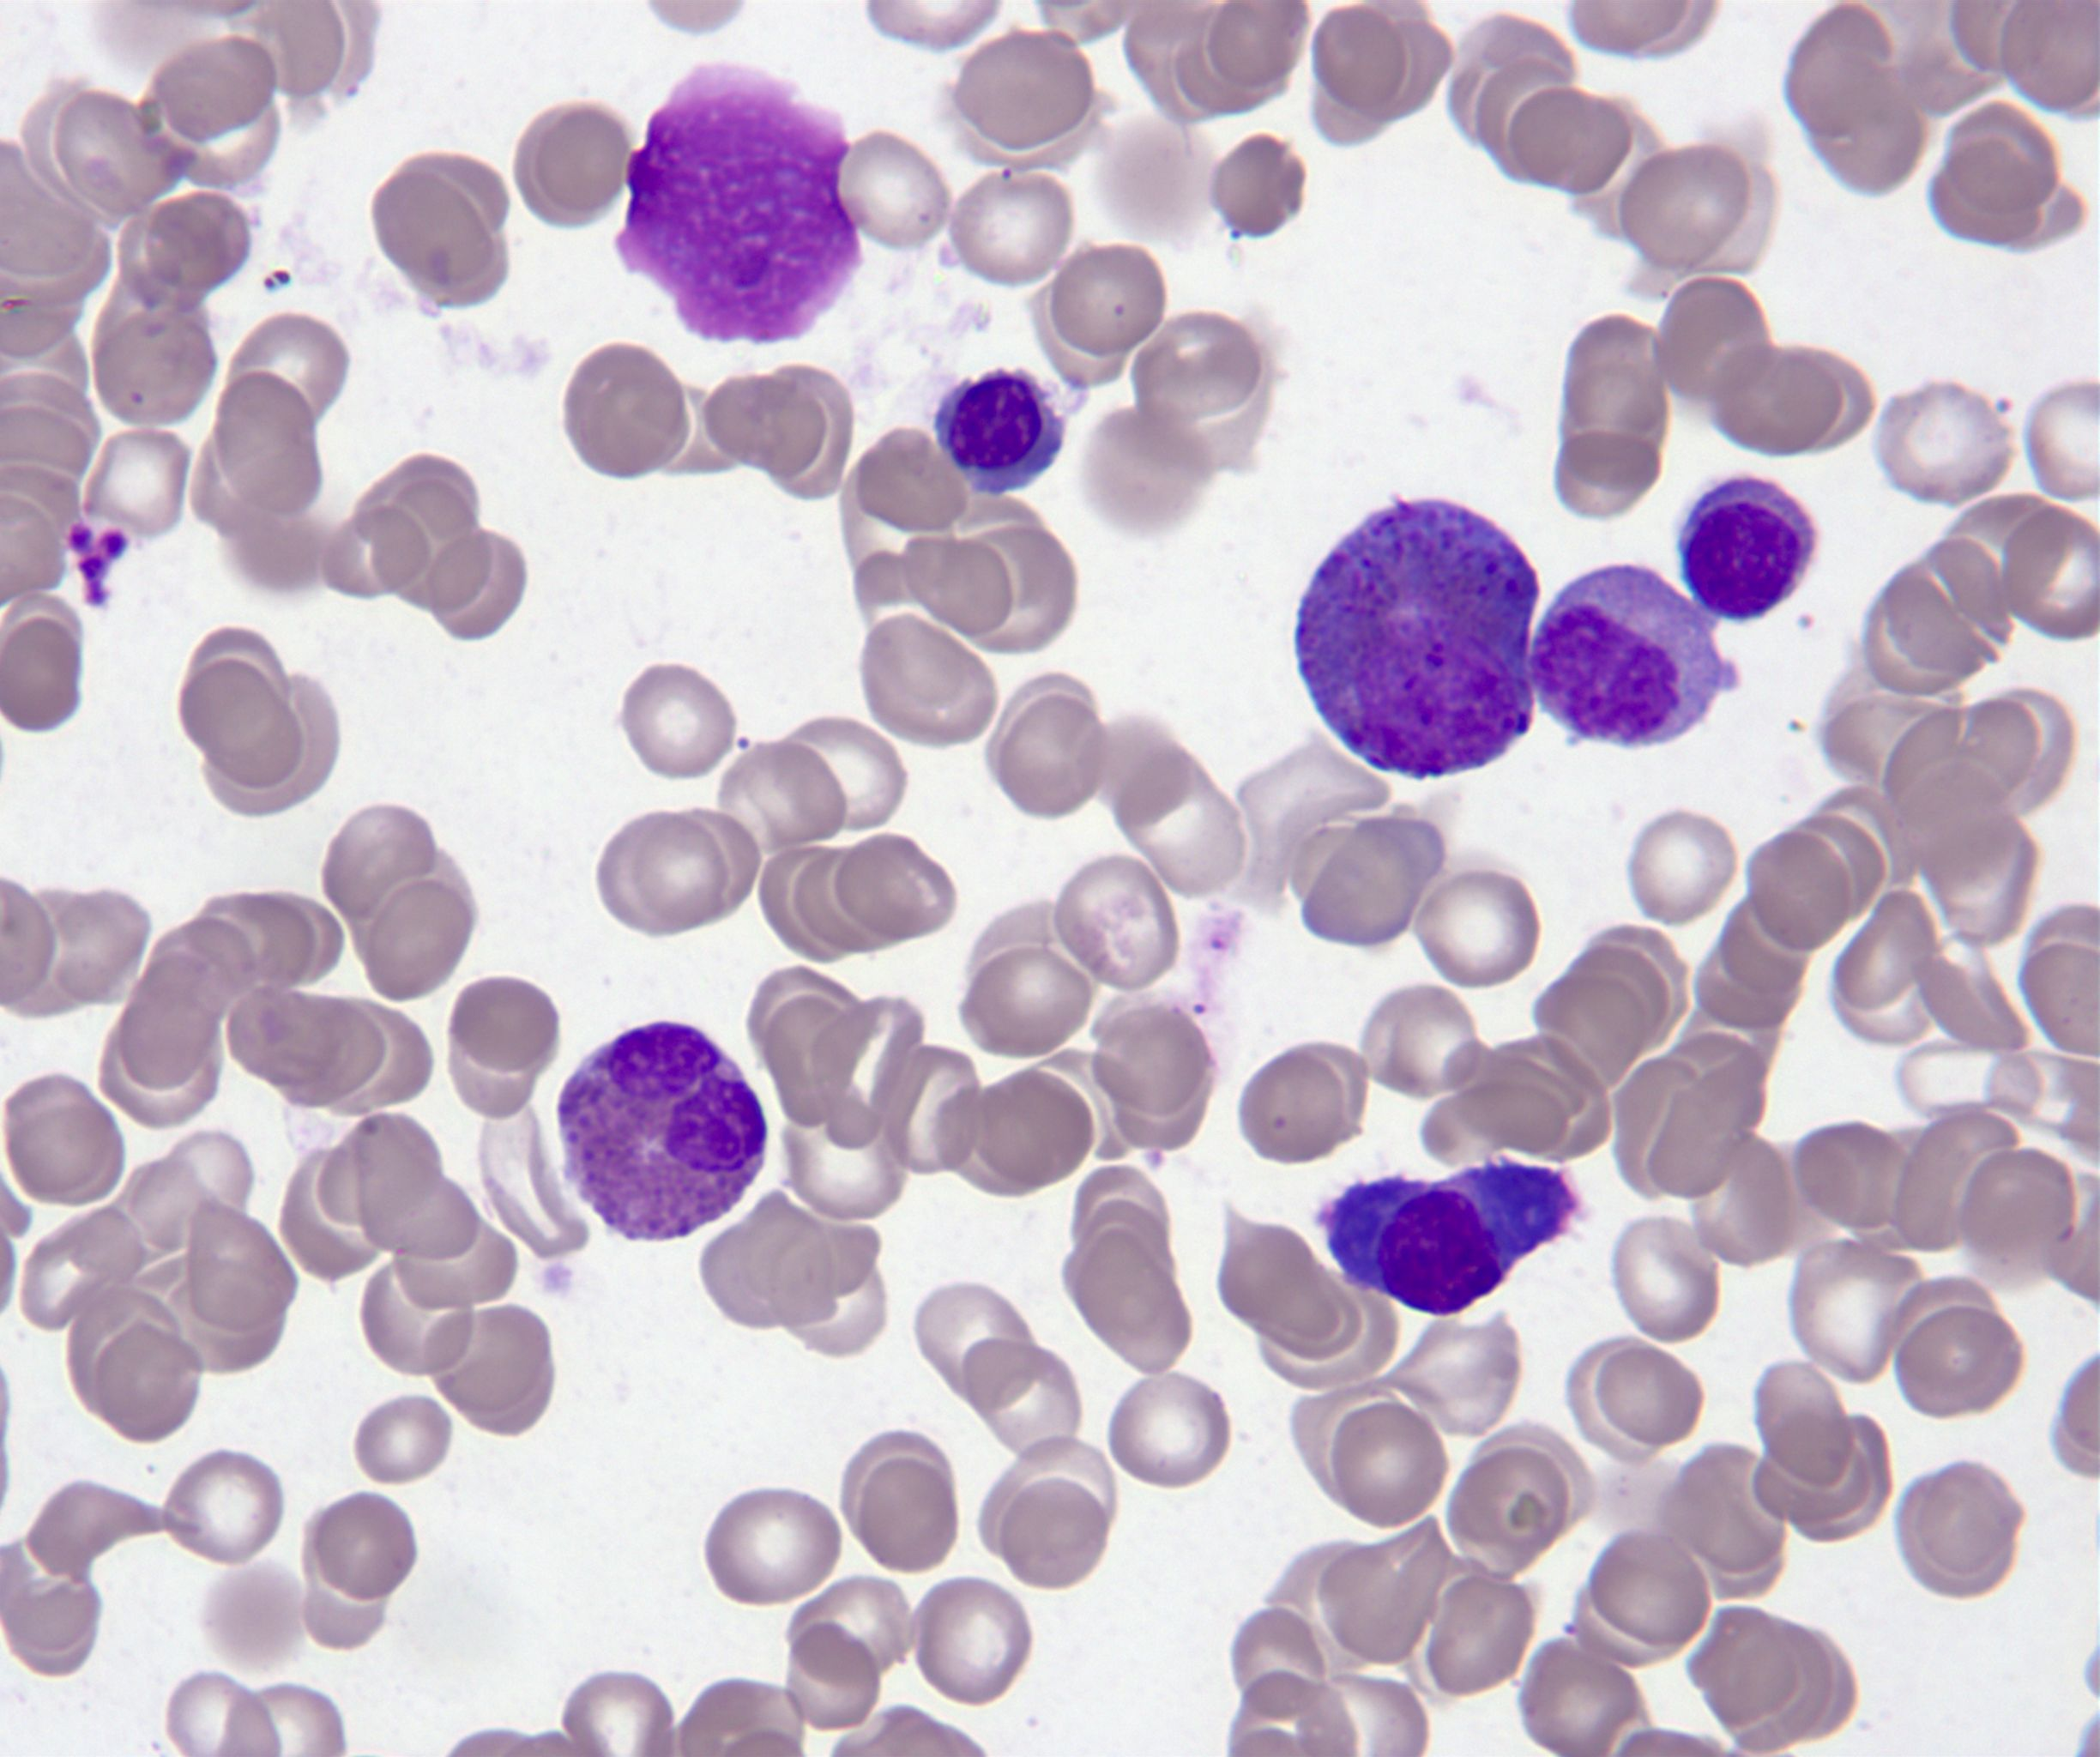24: (935, 368, 1064, 492)
3: (1530, 564, 1737, 745)
32: (1680, 473, 1816, 619)
52: (1313, 1152, 1577, 1314)
E1: (1296, 499, 1540, 778)
E4: (560, 1022, 767, 1242)
x: (617, 59, 865, 342)
